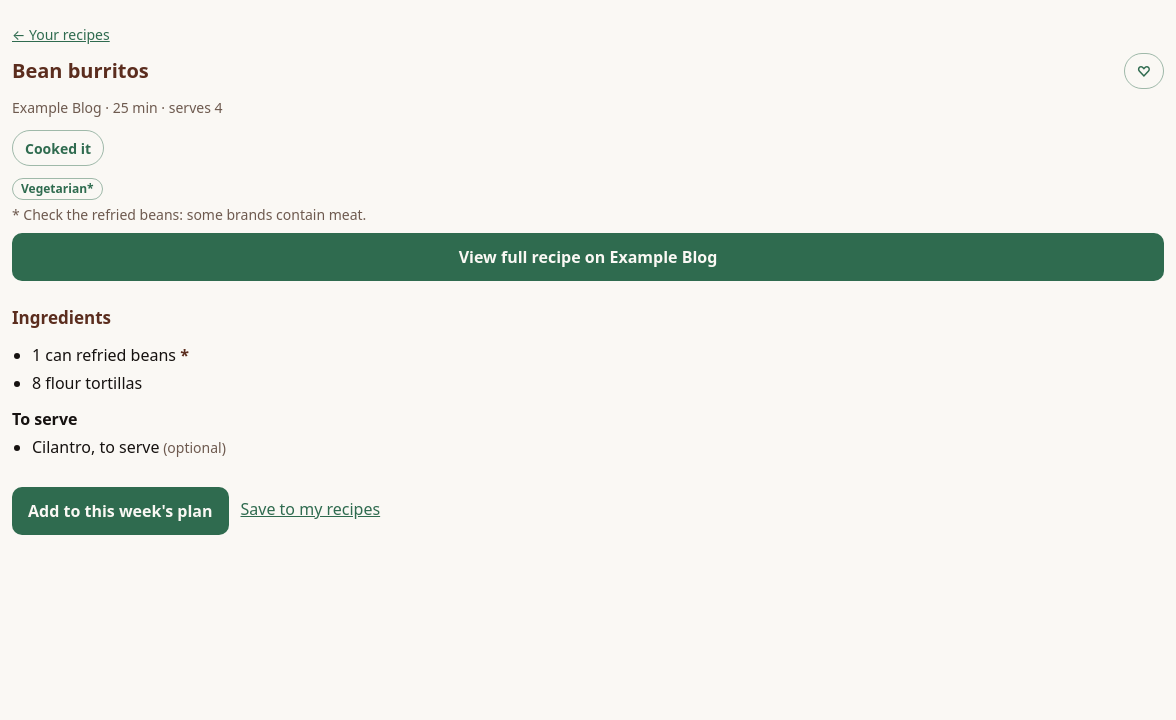
Scenario: RecipePage › saves a recipe from the catalog to the user’s recipes
Click the button "Save to my recipes".
click(310, 508)  # box x1=240 y1=486 x2=380 y2=530
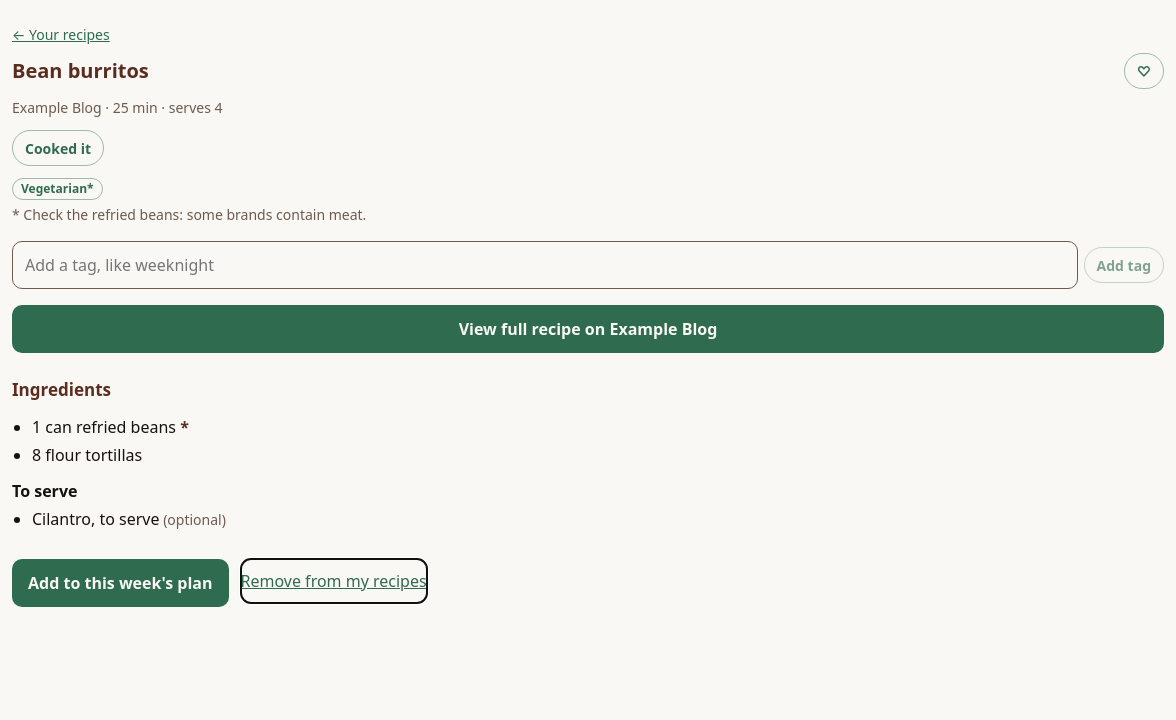
Check: the button "Remove from my recipes" is shown, box x1=240 y1=558 x2=427 y2=602
